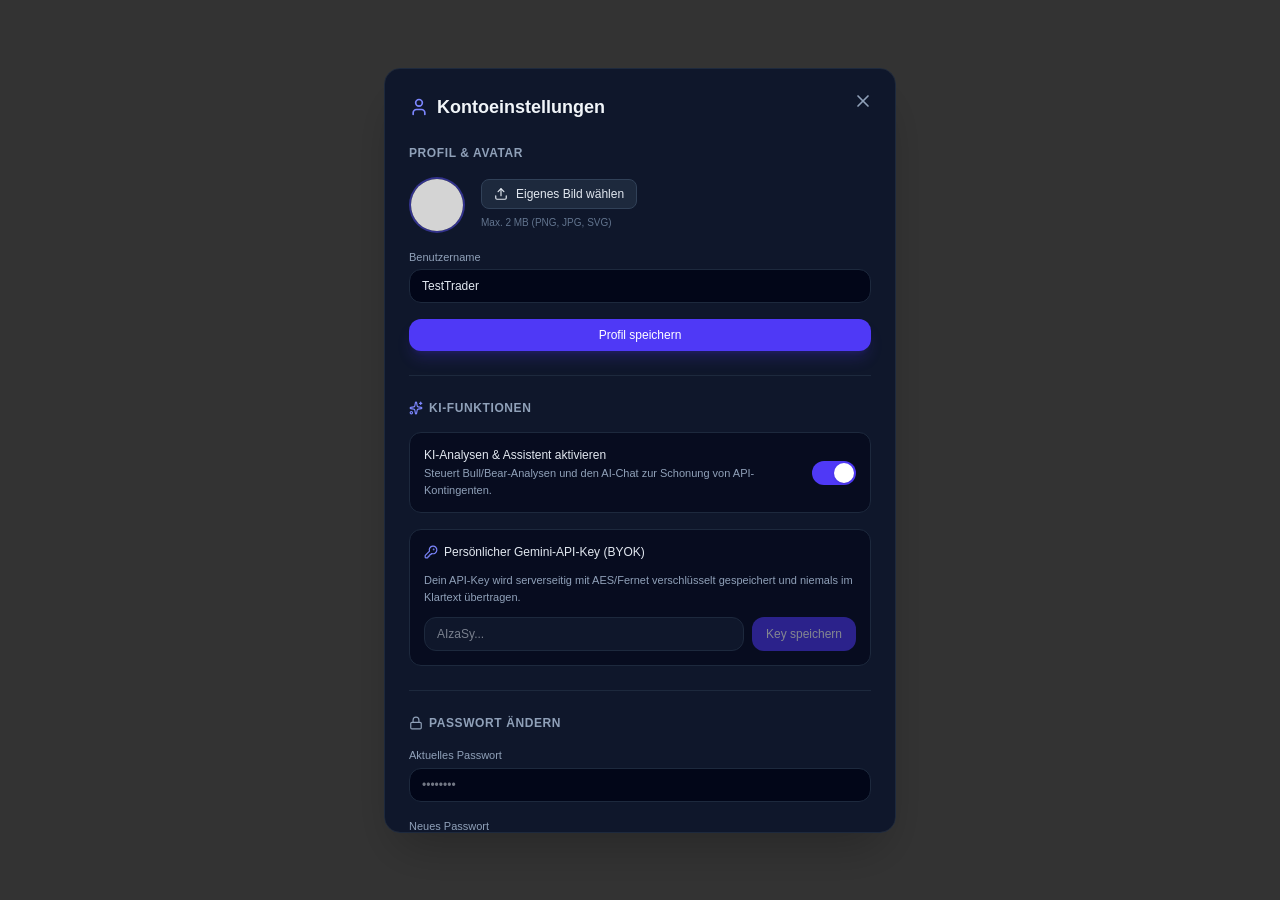
Test: SettingsModal Component (AI Toggle & BYOK) › blendet den BYOK-Bereich aus, wenn KI-Funktionen deaktiviert werden
This screenshot has width=1280, height=900.
Click the switch: (834, 472) [812,460,856,484]
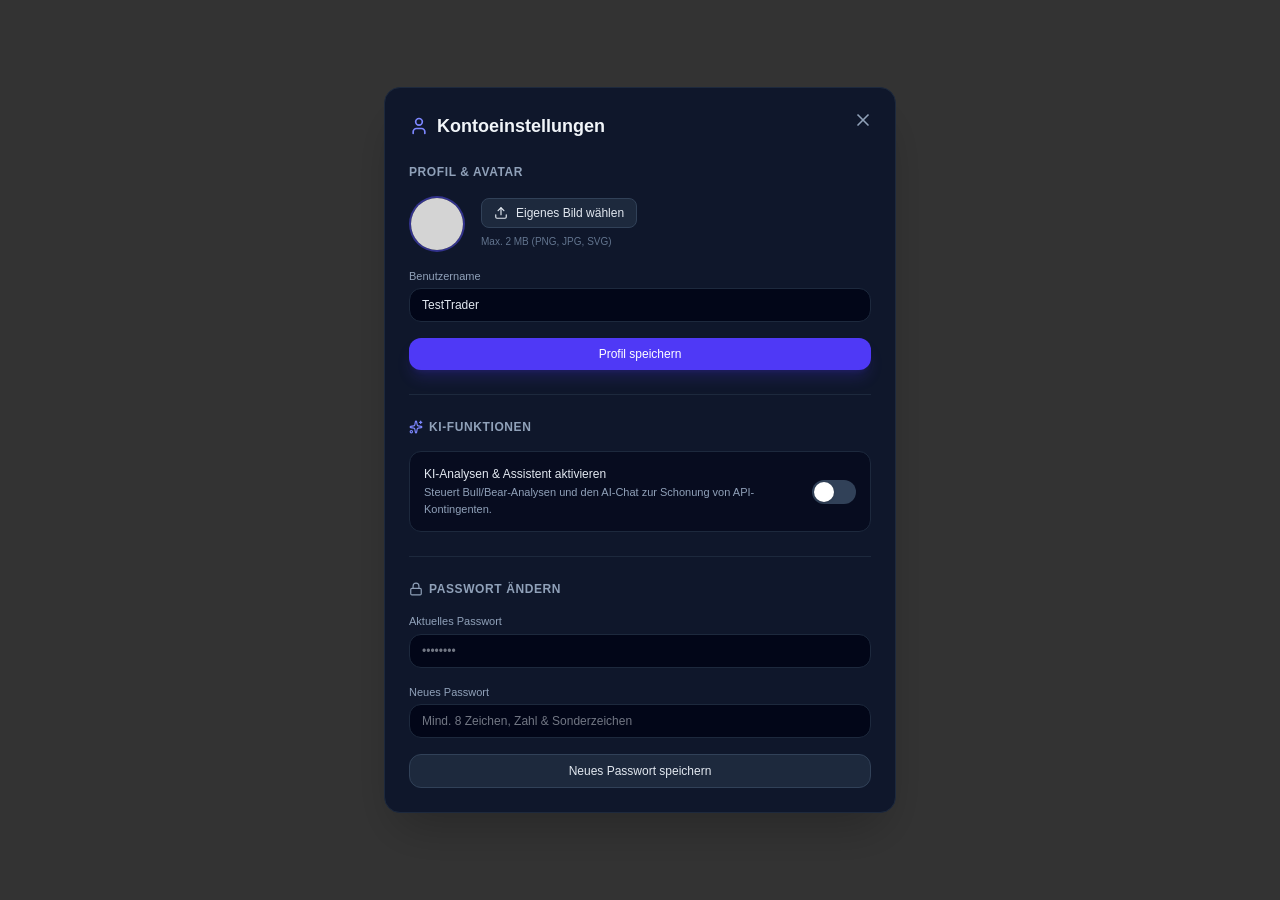
Expected: the text "Persönlicher Gemini-API-Key (BYOK)" is gone
